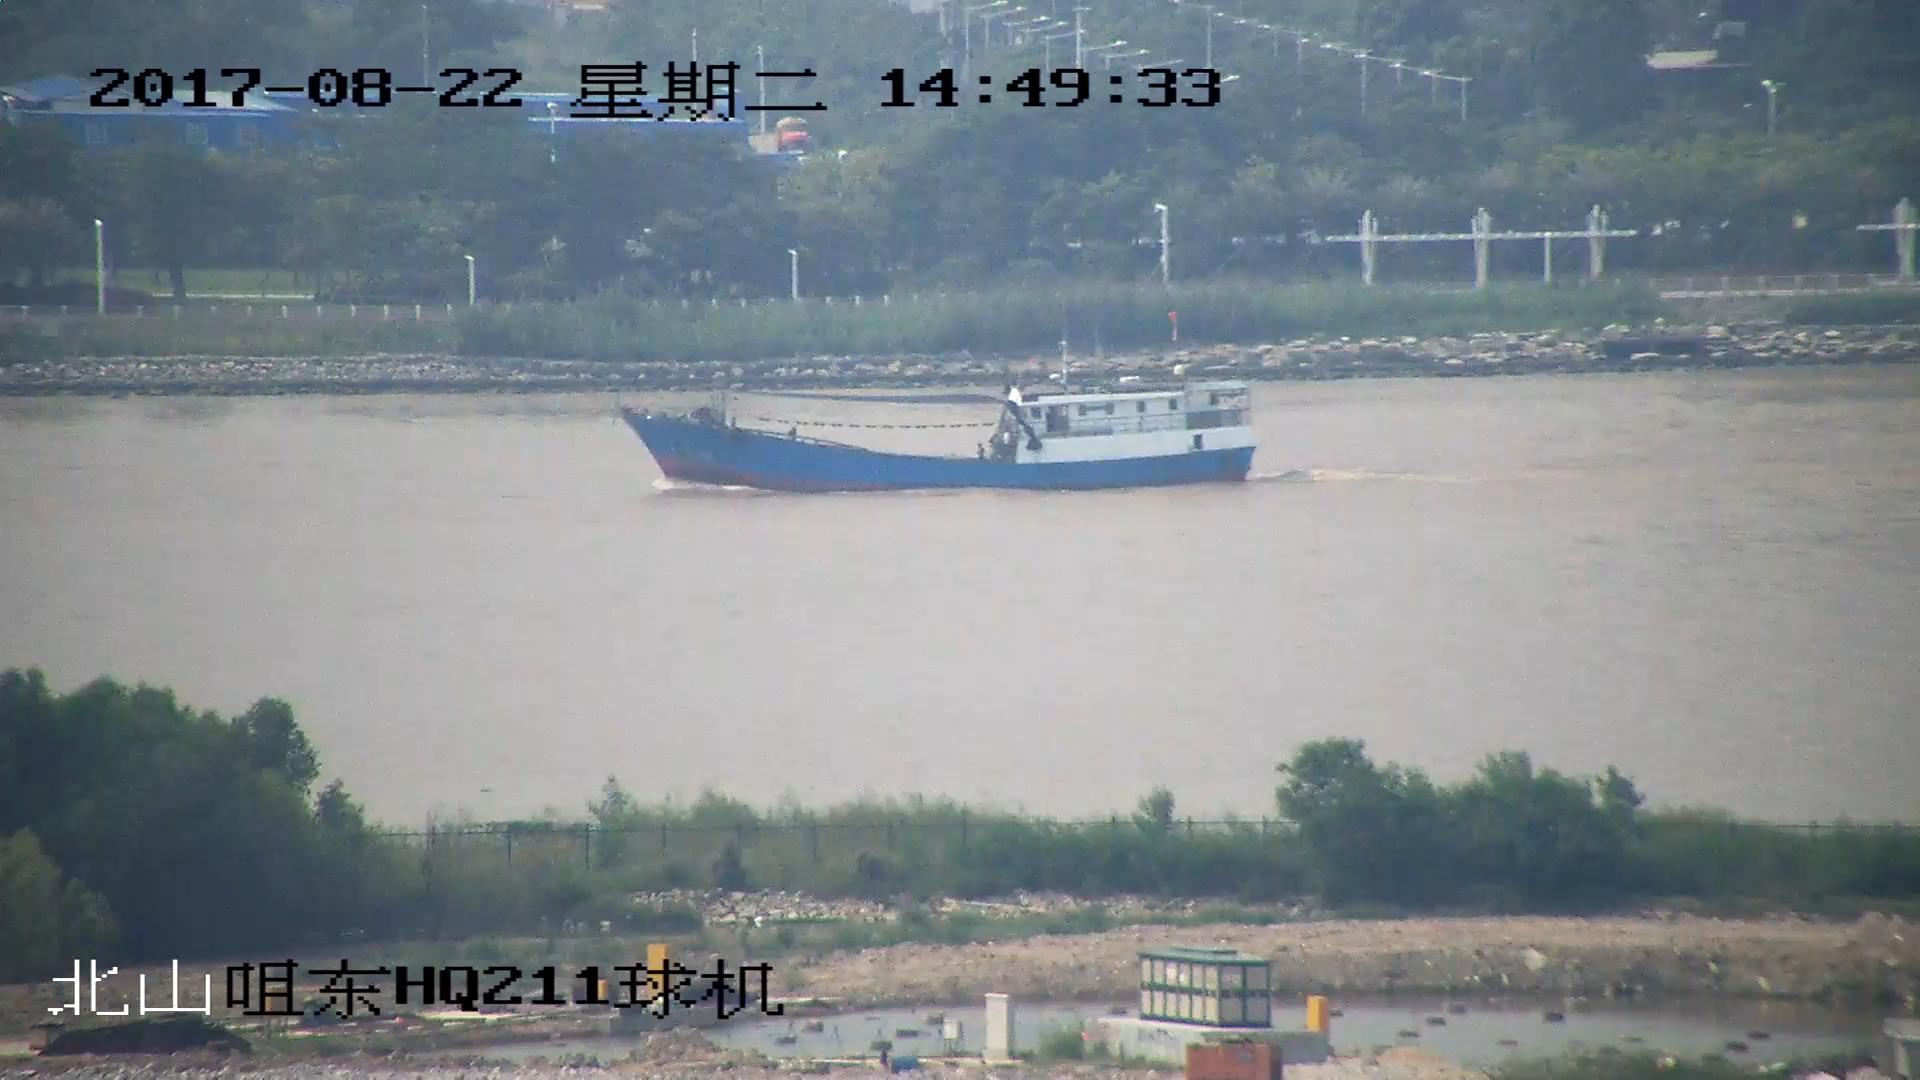fishing boat: (628, 317, 1261, 493)
